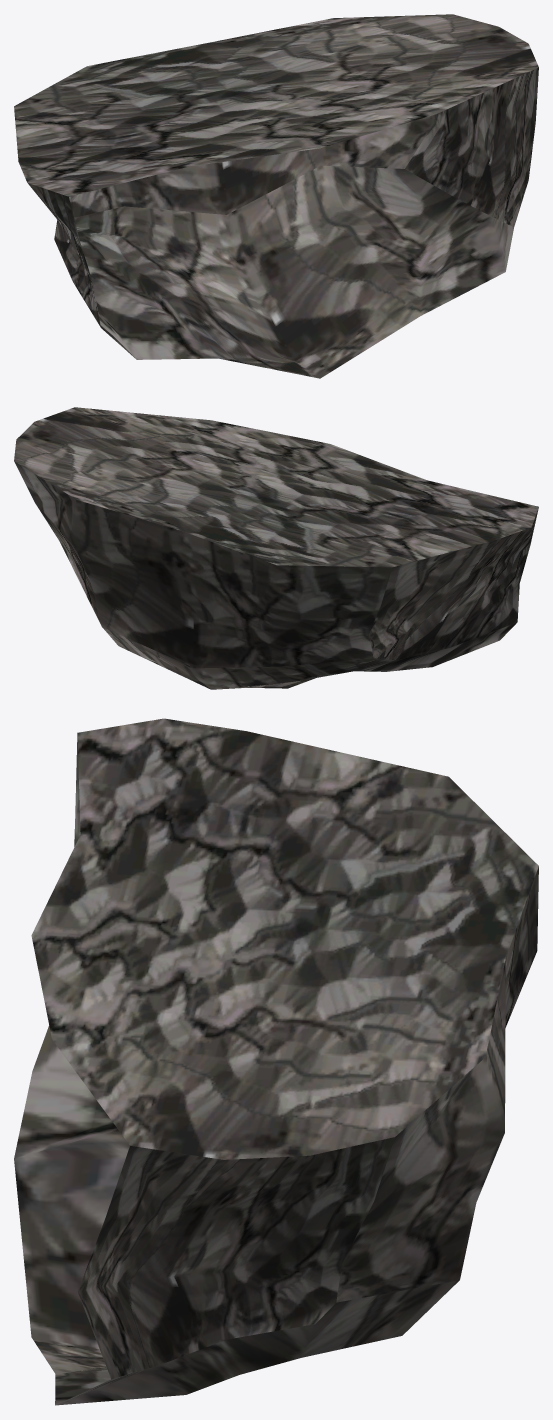
File: INST_SM_LEDGEA.fbx
The picture shows the model from 3 angles, top to bottom: view 1: azimuth 30°, elevation 25°; view 2: azimuth 150°, elevation 25°; view 3: azimuth 270°, elevation 25°; orthographic projection. The views are drawn at different scales.
Parts seen in each view (by area): view 1: INST_SM_LEDGEA; view 2: INST_SM_LEDGEA; view 3: INST_SM_LEDGEA.
Boxes of the visible parts, x1=… form: INST_SM_LEDGEA: x1=14, y1=14, x2=538, y2=378; INST_SM_LEDGEA: x1=14, y1=407, x2=538, y2=689; INST_SM_LEDGEA: x1=14, y1=718, x2=538, y2=1405.
Size of the model in its own units: 42049 by 18436 by 21134.
1 material, 1 textured.
